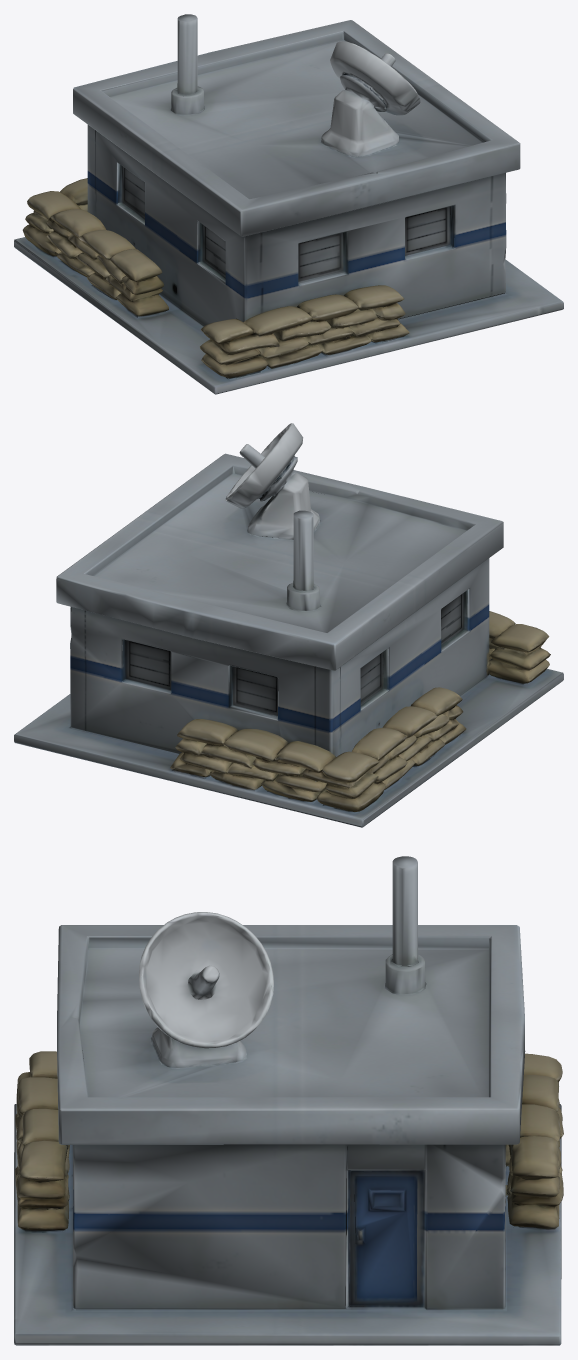
3 renders of one model, top to bottom at view 1: azimuth 30°, elevation 25°; view 2: azimuth 150°, elevation 25°; view 3: azimuth 270°, elevation 25°, orthographic. The views are drawn at different scales.
Visible parts, largest first — view 1: repaired; view 2: repaired; view 3: repaired.
Boxes of the visible parts, x1,y1,x2,y2 form: repaired: (14,14,563,394); repaired: (14,423,563,827); repaired: (14,856,563,1345).
Bounding box in the file's own units: 0.9966 × 0.682 × 0.9997.
1 material, 1 textured.
